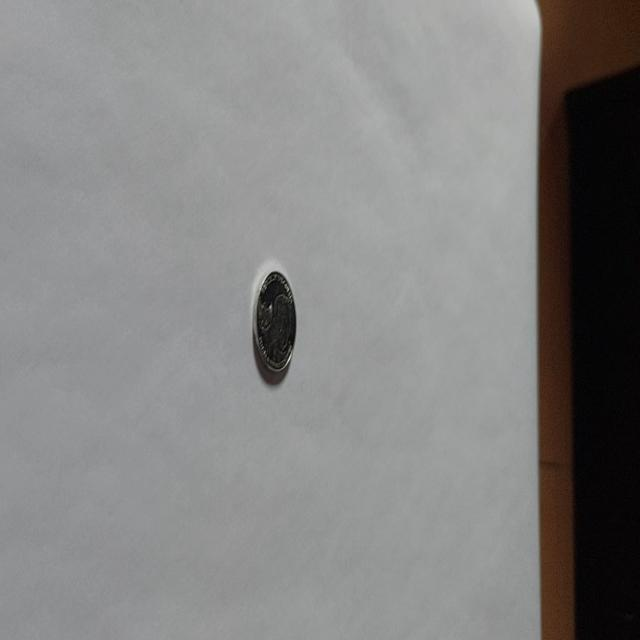seratus rupiah: (252, 268, 296, 376)
